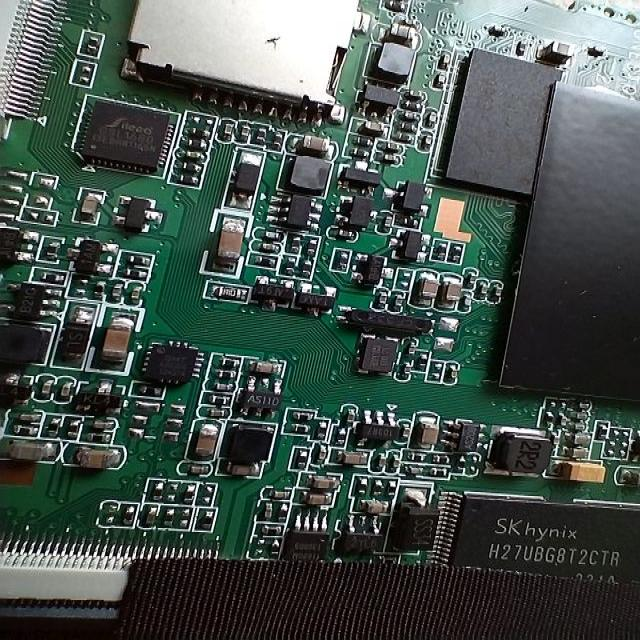capacitor: (201, 207, 249, 270), (98, 311, 130, 365), (80, 179, 110, 220), (202, 421, 226, 466), (81, 452, 113, 480), (444, 276, 463, 312), (419, 415, 435, 451), (421, 276, 437, 308), (302, 495, 330, 511), (311, 474, 331, 495)
resistor: (40, 263, 64, 284), (182, 482, 198, 511), (45, 410, 58, 440), (130, 253, 150, 272), (46, 235, 60, 262), (151, 476, 162, 498), (65, 418, 77, 438), (123, 503, 131, 524)
